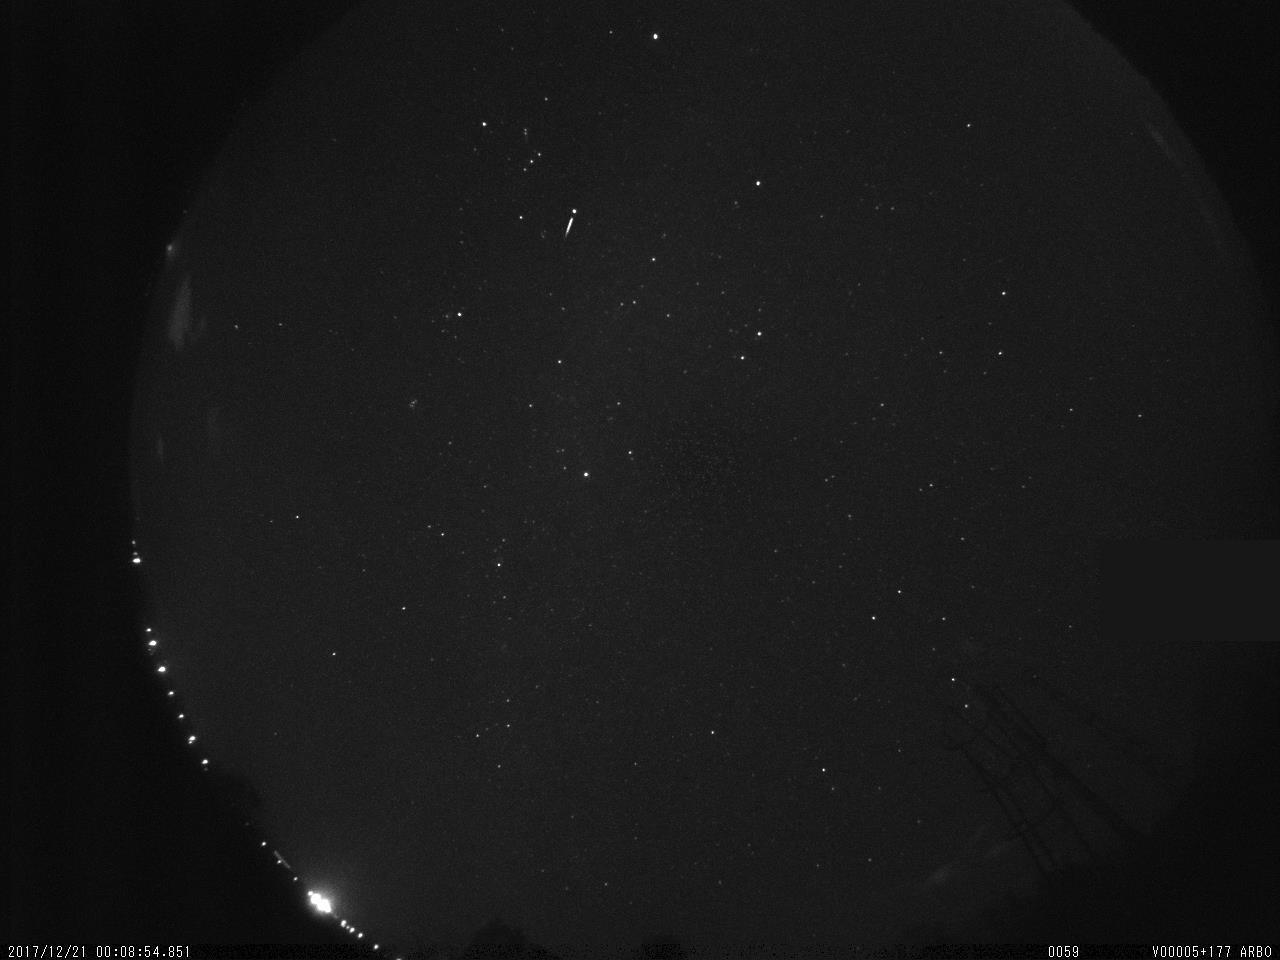meteor: (563, 216, 575, 241)
